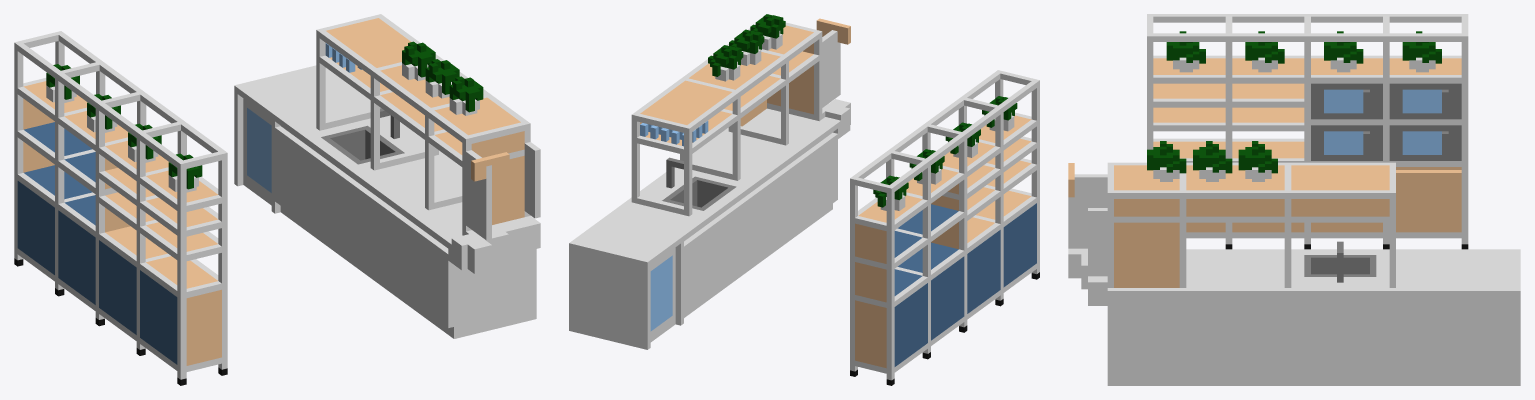
File: 4er-tisch-verl-13-hot spot.obj
3 renders of one model, left to right at view 1: azimuth 30°, elevation 25°; view 2: azimuth 150°, elevation 25°; view 3: azimuth 270°, elevation 25°, orthographic. The views are drawn at different scales.
Parts seen in each view (by area): view 1: hot spot; view 2: hot spot; view 3: hot spot.
Boxes of the visible parts, box(x1,y1,x2,y2) form: hot spot: box(14, 14, 540, 385); hot spot: box(569, 14, 1039, 385); hot spot: box(1068, 14, 1520, 385).
Bounding box in the file's own units: 5.7 × 3.7 × 6.9.
Materials: 1 (1 with a texture image).
